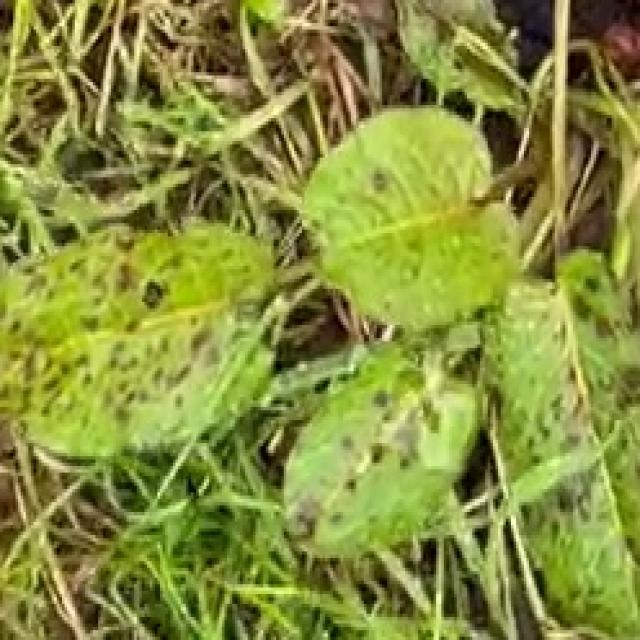organic waste: (0, 78, 640, 595)
